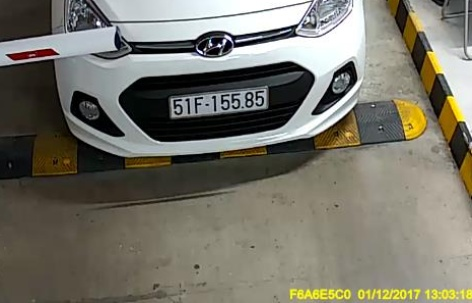plate: (165, 85, 272, 121)
